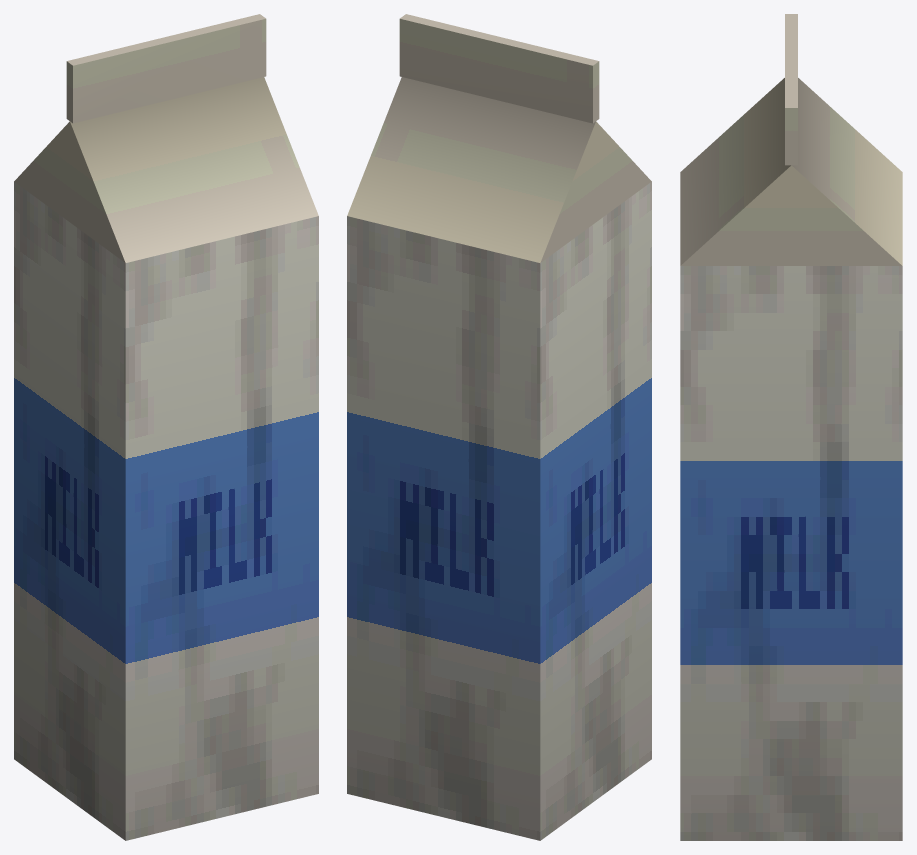
The model's file is milk.glb.
The picture shows the model from 3 angles, left to right: view 1: azimuth 30°, elevation 25°; view 2: azimuth 150°, elevation 25°; view 3: azimuth 270°, elevation 25°; orthographic projection.
Parts seen in each view (by area): view 1: milk; view 2: milk; view 3: milk.
Boxes of the visible parts, x1=… form: milk: x1=14, y1=14, x2=318, y2=840; milk: x1=347, y1=14, x2=651, y2=840; milk: x1=680, y1=14, x2=902, y2=840.
Bounding box in the file's own units: 0.07 × 0.255 × 0.07.
1 material, 1 textured.
